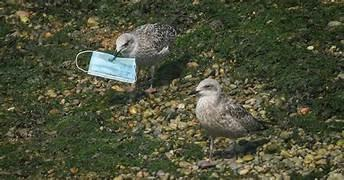Mask: (75, 51, 135, 82)
